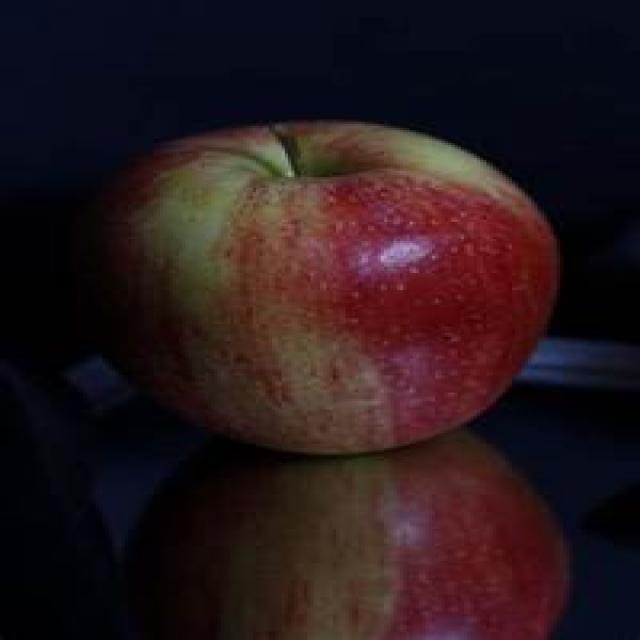apple: (120, 119, 560, 462)
